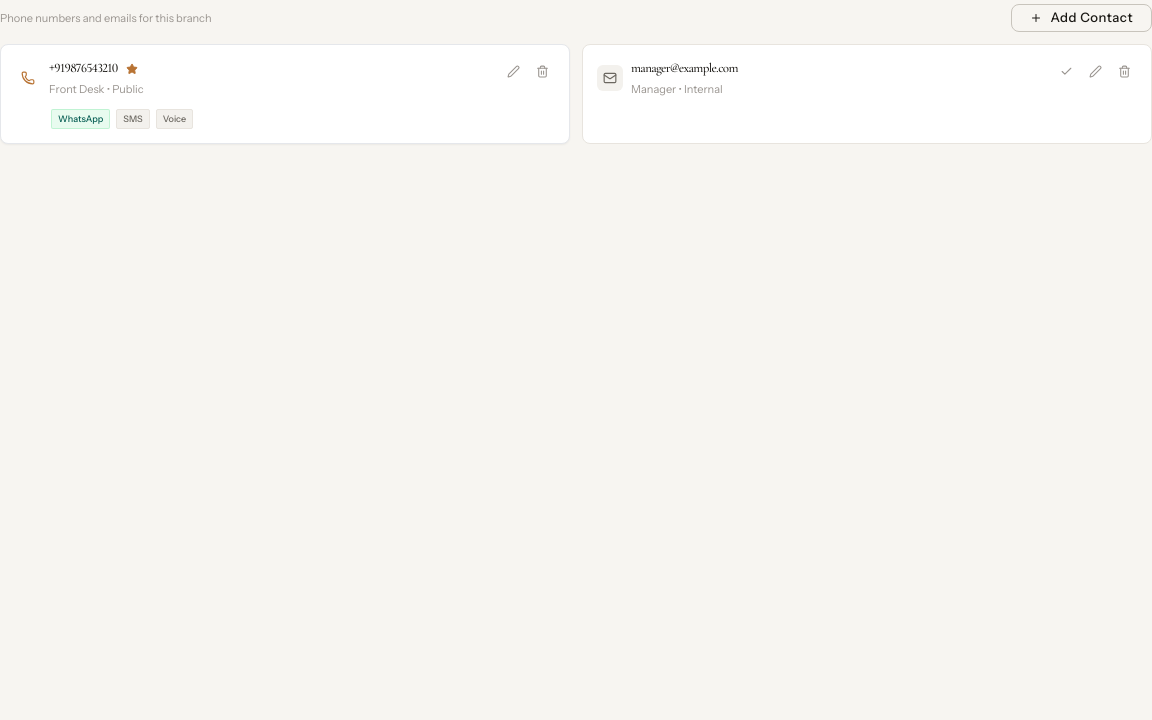
Test: BranchContactsSection create/update form submission › retains the selected edit workflow when contact update fails
This screenshot has width=1152, height=720.
Expected: the heading "+919876543210" is shown, [49, 59, 144, 78]
Step 1. Click the button titled "Edit Contact" in the row of "manager@example.com" → (1096, 72), box [1083, 59, 1108, 84]
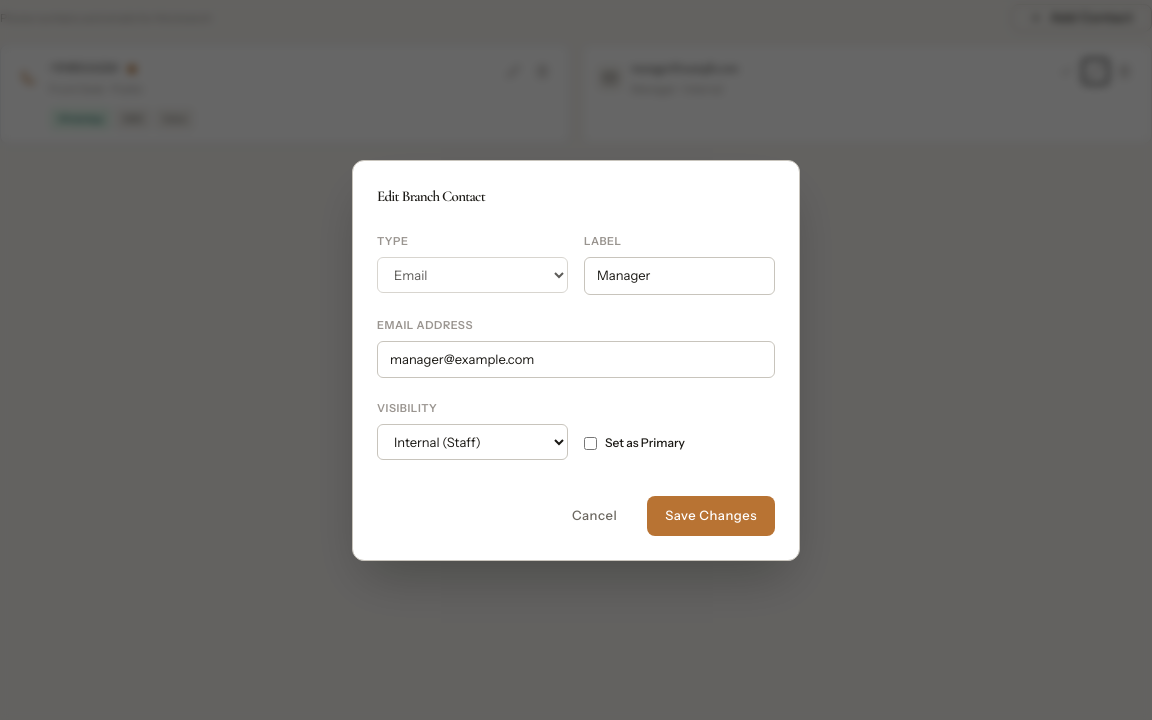
Expected: the heading "Edit Branch Contact" is shown, [377, 184, 485, 207]
Step 2. Replace the text in the field with placeholder "e.g. Front Desk" below "Label" with "Manager Desk" → (680, 276), box [584, 257, 775, 294]
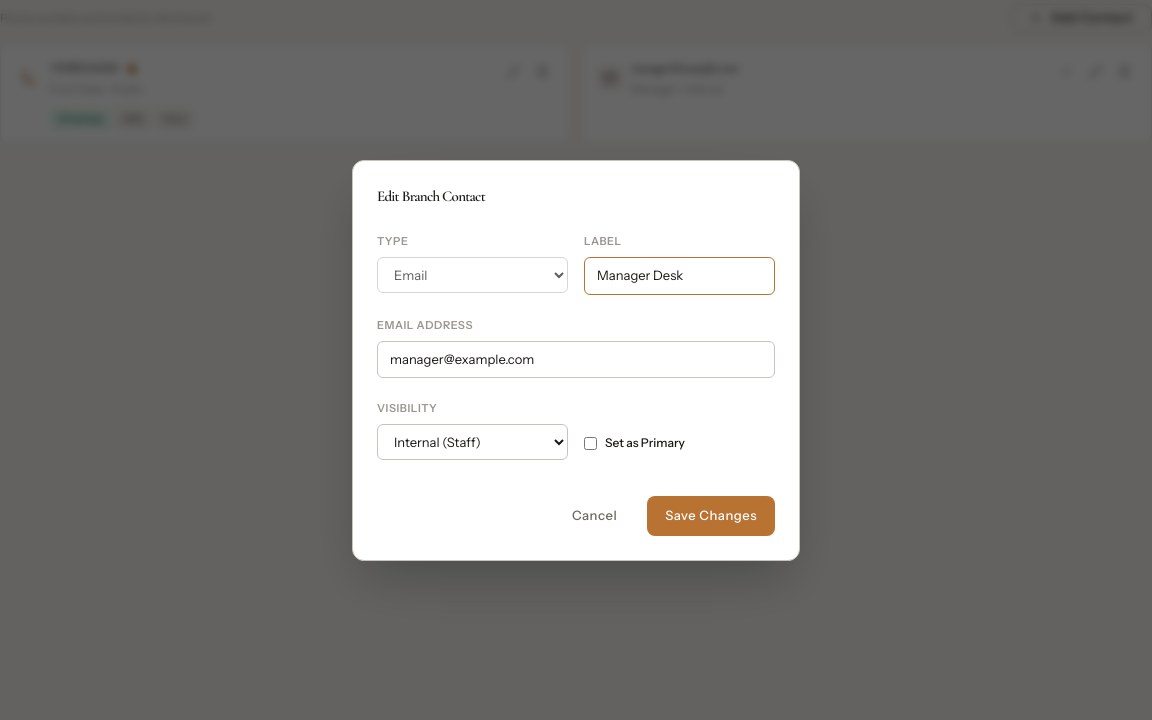
Step 3. Click the button "Save Changes" → (711, 516), box [647, 496, 775, 536]
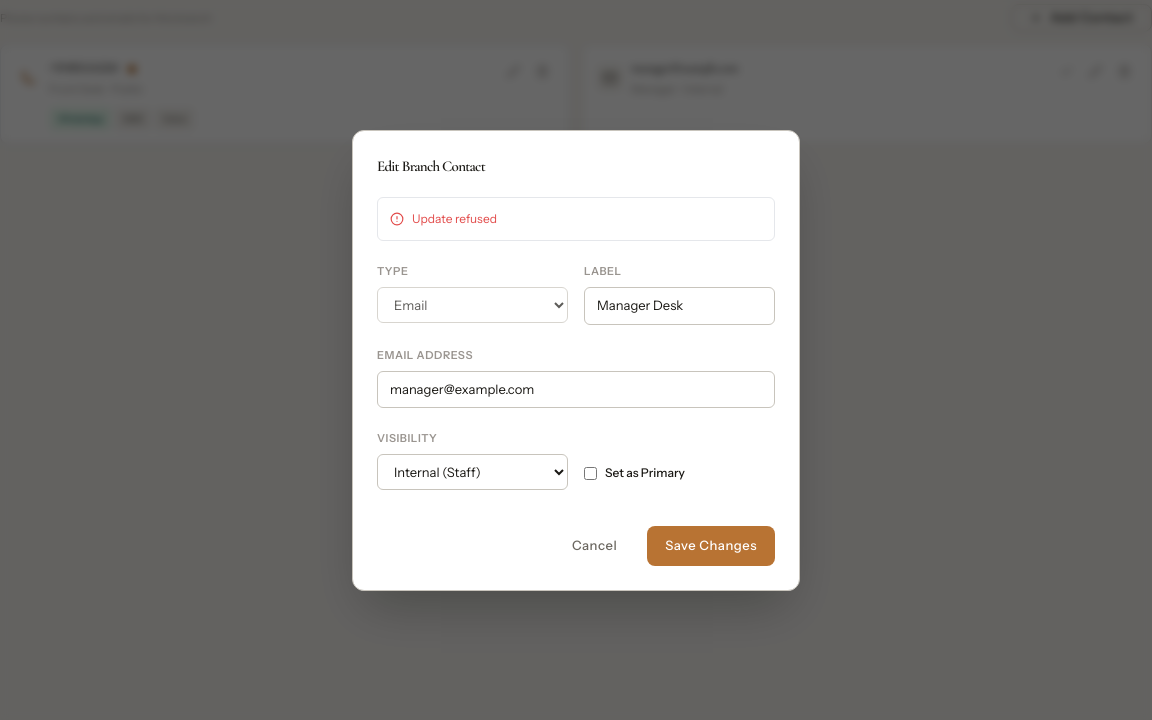
Expected: the heading "Edit Branch Contact" is shown, [377, 154, 485, 177]
Expected: the field with placeholder "contact@branch.com" below "Email Address" holds "manager@example.com", [377, 370, 775, 408]
Expected: the text "Update refused" is shown, [412, 211, 497, 226]
